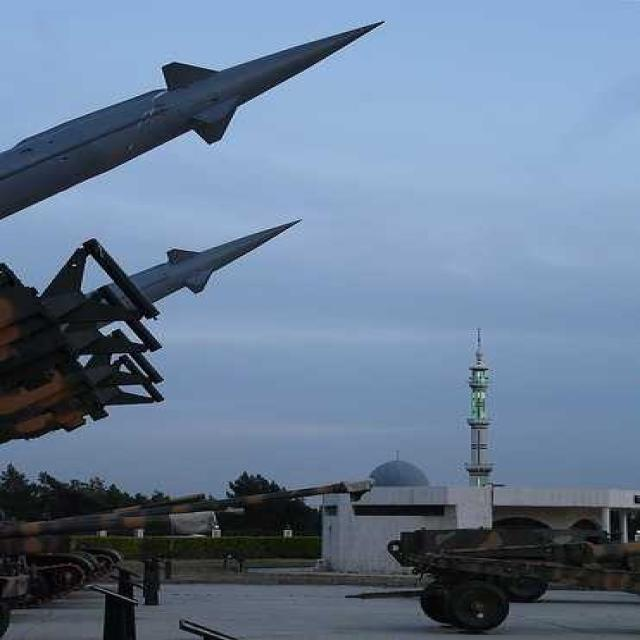missile: (0, 18, 387, 219), (82, 214, 306, 324)
